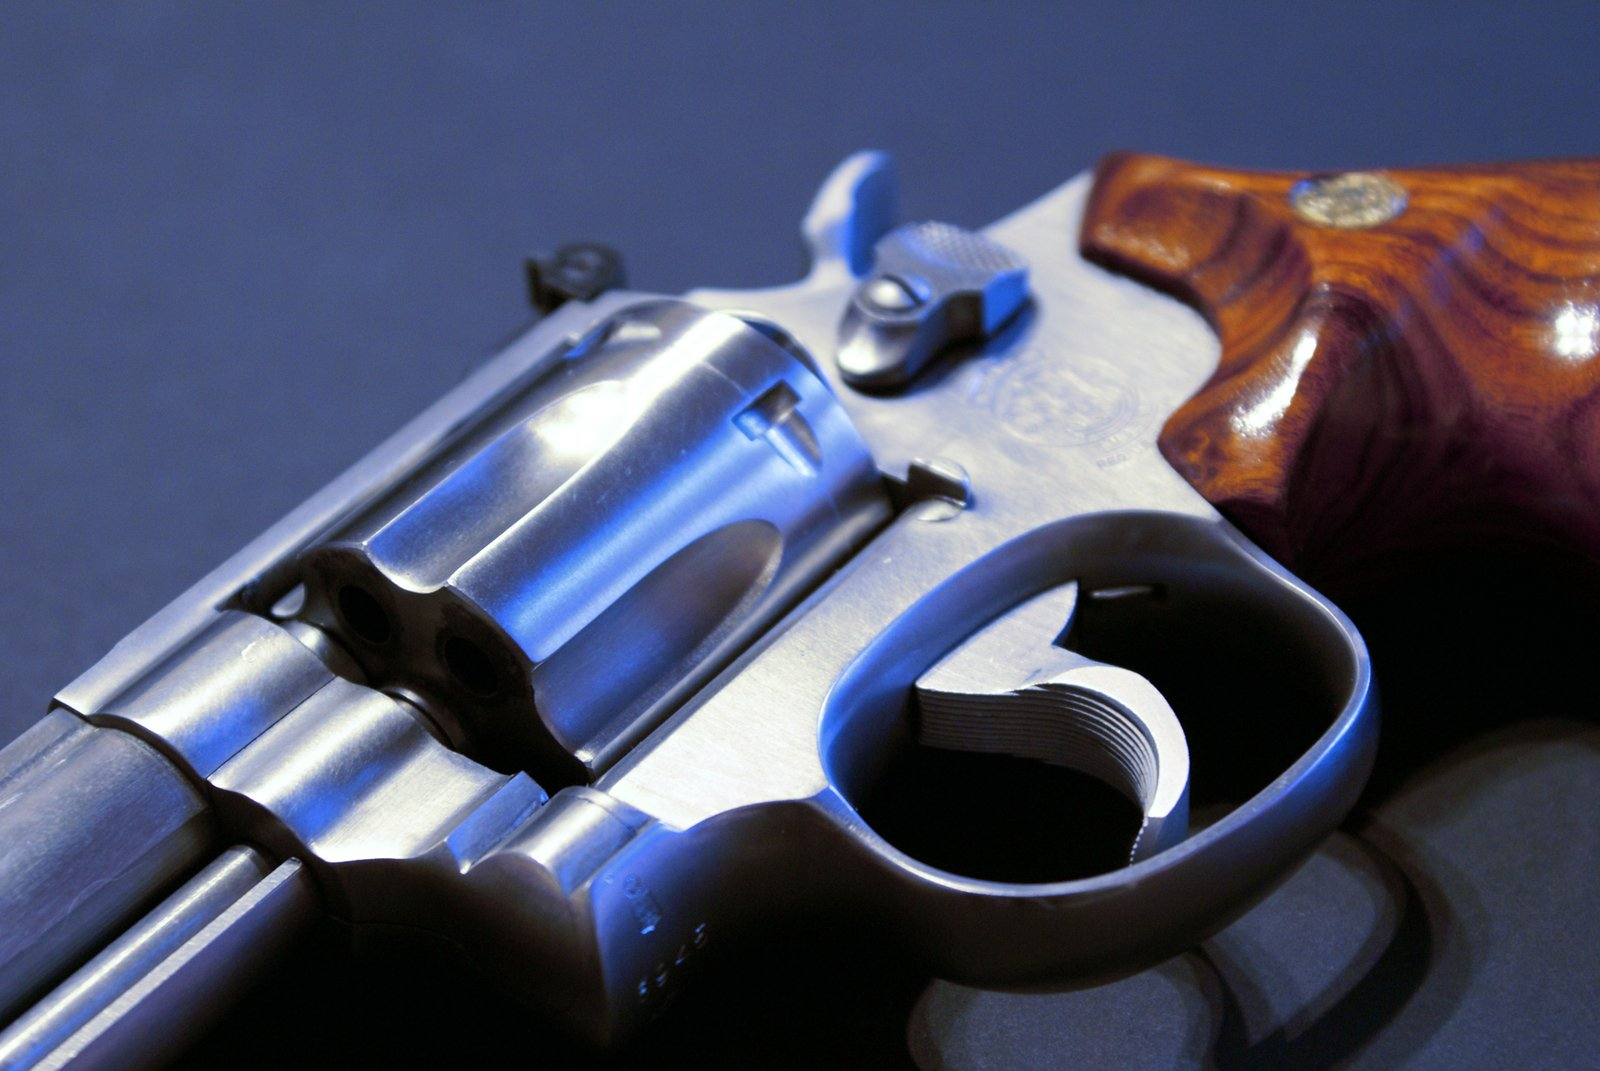gun: (1, 146, 1600, 1071)
